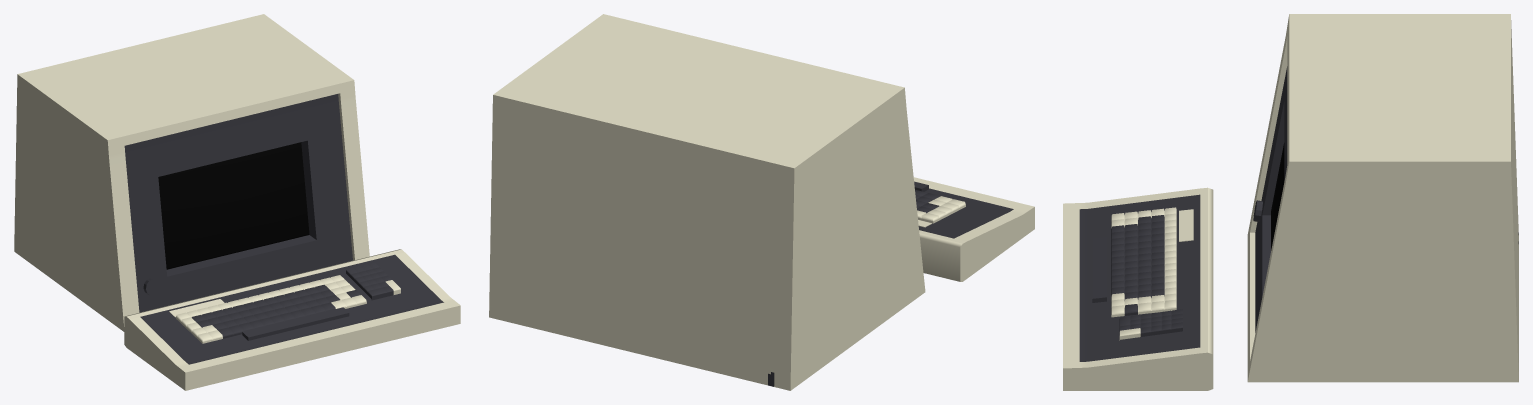
File: CPUTerminal.gltf
The picture shows the model from 3 angles, left to right: view 1: azimuth 30°, elevation 25°; view 2: azimuth 150°, elevation 25°; view 3: azimuth 270°, elevation 25°; orthographic projection. The views are drawn at different scales.
Visible parts, largest first — view 1: CPUterminal; view 2: CPUterminal; view 3: CPUterminal.
Part boxes in pixels (x1,y1,x2,y2): CPUterminal: (14, 14, 460, 390); CPUterminal: (489, 14, 1034, 390); CPUterminal: (1063, 14, 1518, 390).
Bounding box in the file's own units: 0.736 × 0.4593 × 0.8596.
